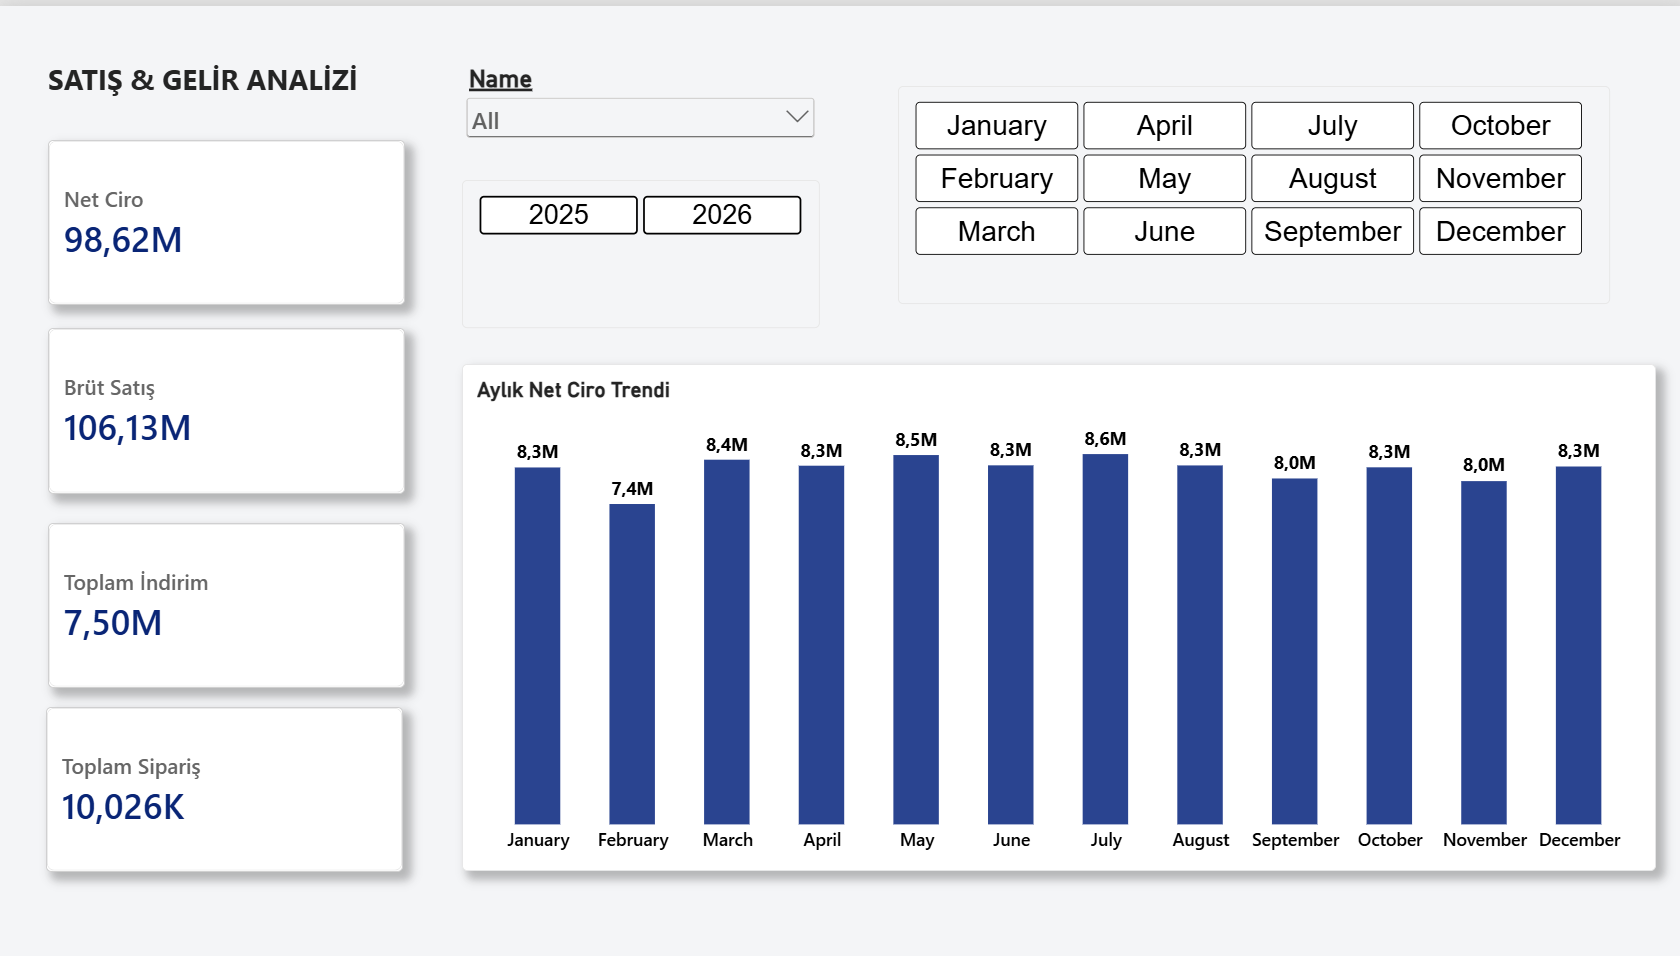

Layout of this report page (visuals, bound fields, positions):
{"tool":"powerbi","page":{"name":"Page 1","canvas":[1920,1080],"ordinal":0},"visuals":[{"type":"cardVisual","fields":{"Data":["_Measures.Net Ciro"]},"box":[54,153.4,406.2,187.5],"z":0},{"type":"cardVisual","fields":{"Data":["_Measures.Toplam Sipariş"]},"box":[52.3,796.2,406.2,187.5],"z":1000},{"type":"cardVisual","fields":{"Data":["_Measures.Toplam İndirim"]},"box":[54.6,586.9,406.2,187.5],"z":2000},{"type":"cardVisual","fields":{"Data":["_Measures.Brüt Satış"]},"box":[54.6,366.3,406.2,187.5],"z":3000},{"type":"textbox","box":[54,62.5,406.2,56.8],"z":4000},{"type":"ChicletSlicer1448559807354","fields":{"Category":["sales Orders.OrderDate.Variation.Date Hierarchy.Year"]},"box":[525.5,197.9,407.2,168.3],"z":5000},{"type":"ChicletSlicer1448559807354","fields":{"Category":["sales Orders.OrderDate.Variation.Date Hierarchy.Month"]},"box":[1021.4,91,809.9,248],"z":6000},{"type":"slicer","fields":{"Values":["sales Customers.FirstName"]},"box":[525.5,66,406.2,107.9],"z":7000},{"type":"lineClusteredColumnComboChart","title":"Aylık Net Ciro Trendi","fields":{"Category":["sales Orders.OrderDate.Variation.Date Hierarchy.Month"],"Y":["_Measures.Net Ciro"]},"box":[525.5,407.2,1358.1,575.5],"z":8000}]}

Visuals, with their boxes in screenshot pixels (x1, y1, x2, y2), scaled from the page's 1920x1080 canvas onto the 1680x956 screenshot:
cardVisual - _Measures.Net Ciro: pyautogui.locateOnScreen(47, 136, 403, 302)
cardVisual - _Measures.Toplam Sipariş: pyautogui.locateOnScreen(46, 705, 401, 871)
cardVisual - _Measures.Toplam İndirim: pyautogui.locateOnScreen(48, 520, 403, 685)
cardVisual - _Measures.Brüt Satış: pyautogui.locateOnScreen(48, 324, 403, 490)
textbox: pyautogui.locateOnScreen(47, 55, 403, 106)
ChicletSlicer1448559807354 - sales Orders.OrderDate.Variation.Date Hierarchy.Year: pyautogui.locateOnScreen(460, 175, 816, 324)
ChicletSlicer1448559807354 - sales Orders.OrderDate.Variation.Date Hierarchy.Month: pyautogui.locateOnScreen(894, 81, 1602, 300)
slicer - sales Customers.FirstName: pyautogui.locateOnScreen(460, 58, 815, 154)
"Aylık Net Ciro Trendi" lineClusteredColumnComboChart: pyautogui.locateOnScreen(460, 360, 1648, 870)
